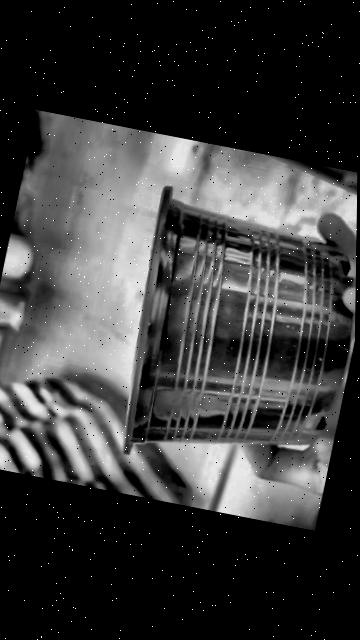pot: (123, 188, 353, 452)
